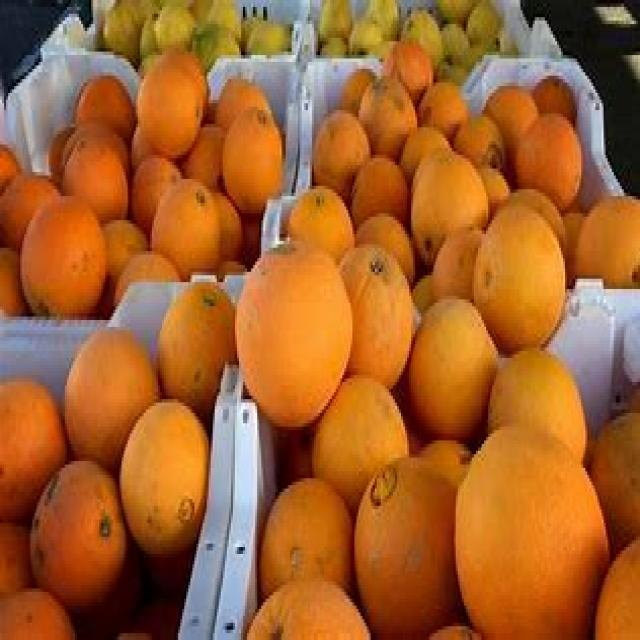orange: (454, 424, 599, 640), (233, 240, 341, 419), (353, 454, 456, 632), (121, 395, 204, 549), (478, 203, 564, 344), (410, 294, 490, 440), (259, 480, 354, 596), (66, 325, 143, 466), (18, 195, 106, 316), (348, 236, 410, 390), (156, 280, 230, 405), (134, 53, 199, 158), (152, 175, 220, 268), (411, 150, 485, 230), (515, 111, 581, 199), (222, 109, 282, 201), (312, 111, 358, 191)
